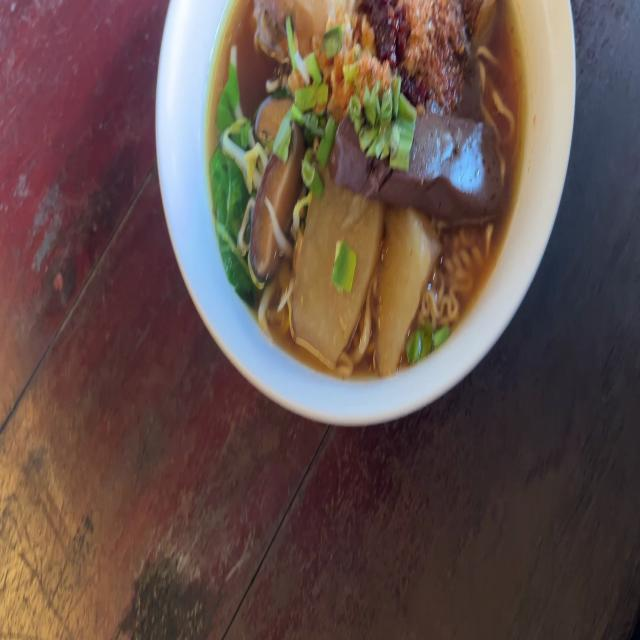noodle: (336, 112, 500, 196), (450, 24, 480, 121)
